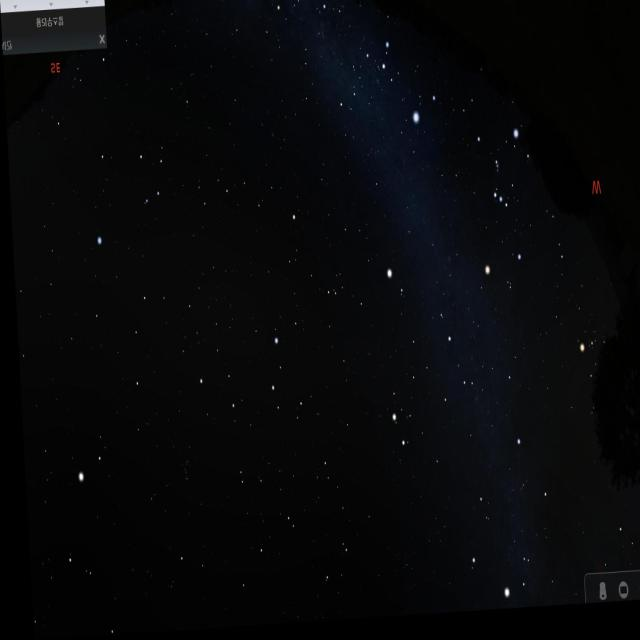bootes: (29, 458, 114, 640)
canis_major: (378, 38, 443, 145)
canis_minor: (376, 256, 411, 312)
gemini: (372, 320, 472, 462)
leo: (190, 310, 318, 429)
orion: (465, 127, 529, 290)
taurus: (570, 306, 632, 412)
